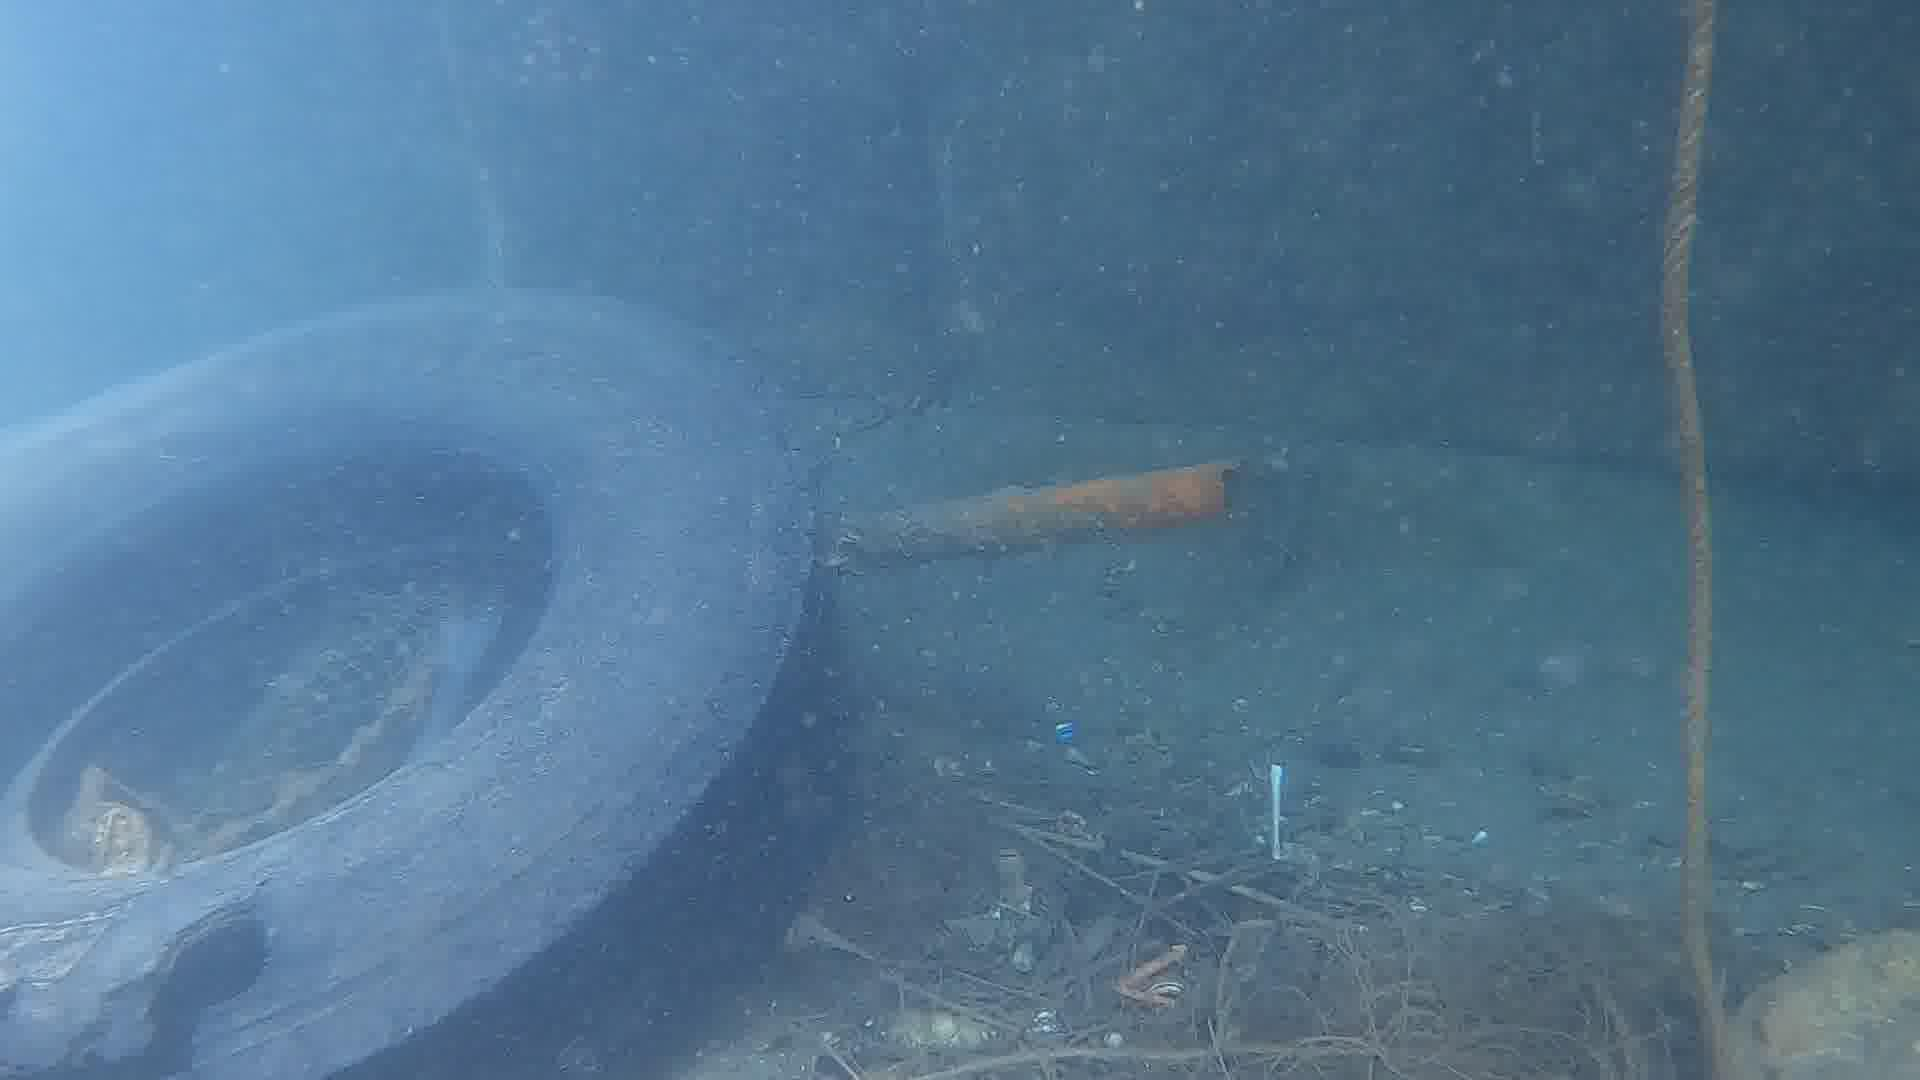fish net: (212, 585, 440, 785)
rope: (1658, 0, 1743, 1080)
tire: (0, 286, 827, 1077)
